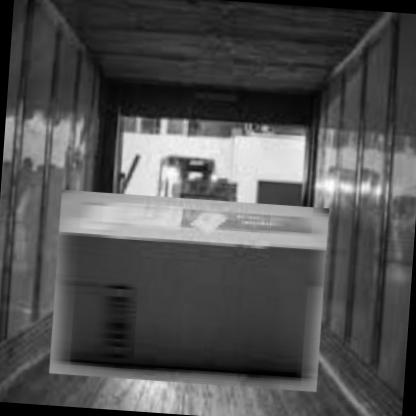box: (44, 187, 334, 396)
